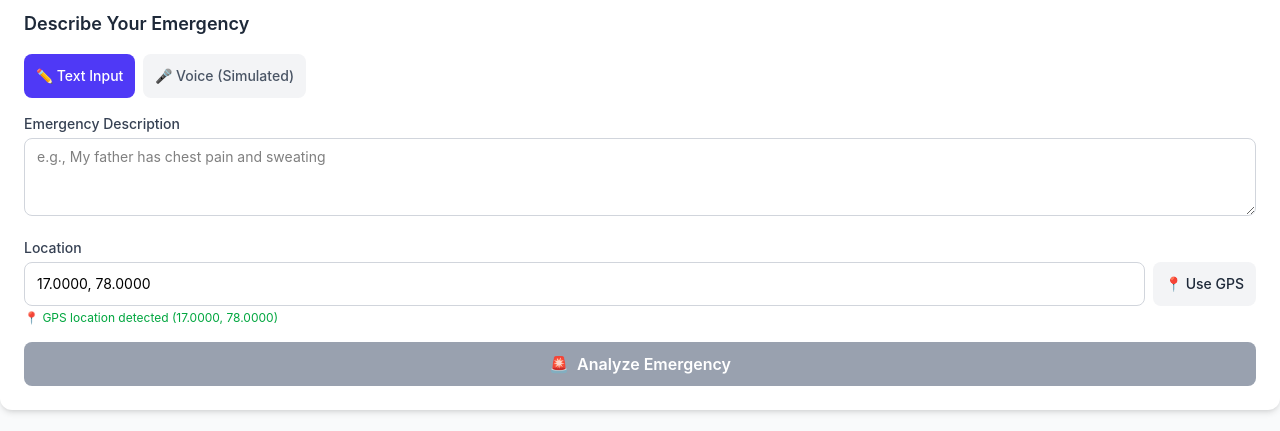
Test: EmergencyForm › enables submit when input has text
Type "test emergency" into the text box with placeholder "e.g., My father has chest pain and sweating" at (640, 177), box [24,138,1256,216]
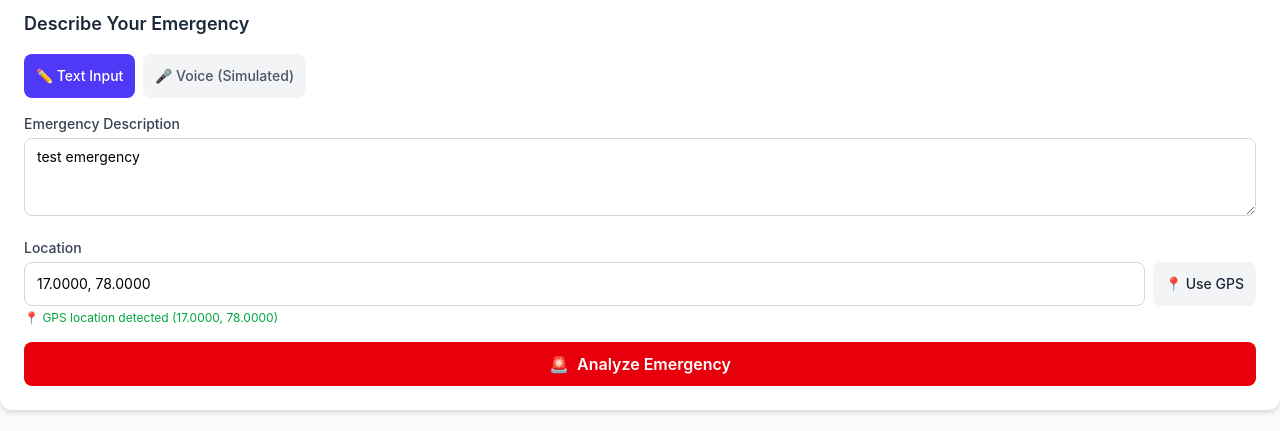
Expected: the button "🚨 Analyze Emergency" is enabled, [24,342,1256,386]
